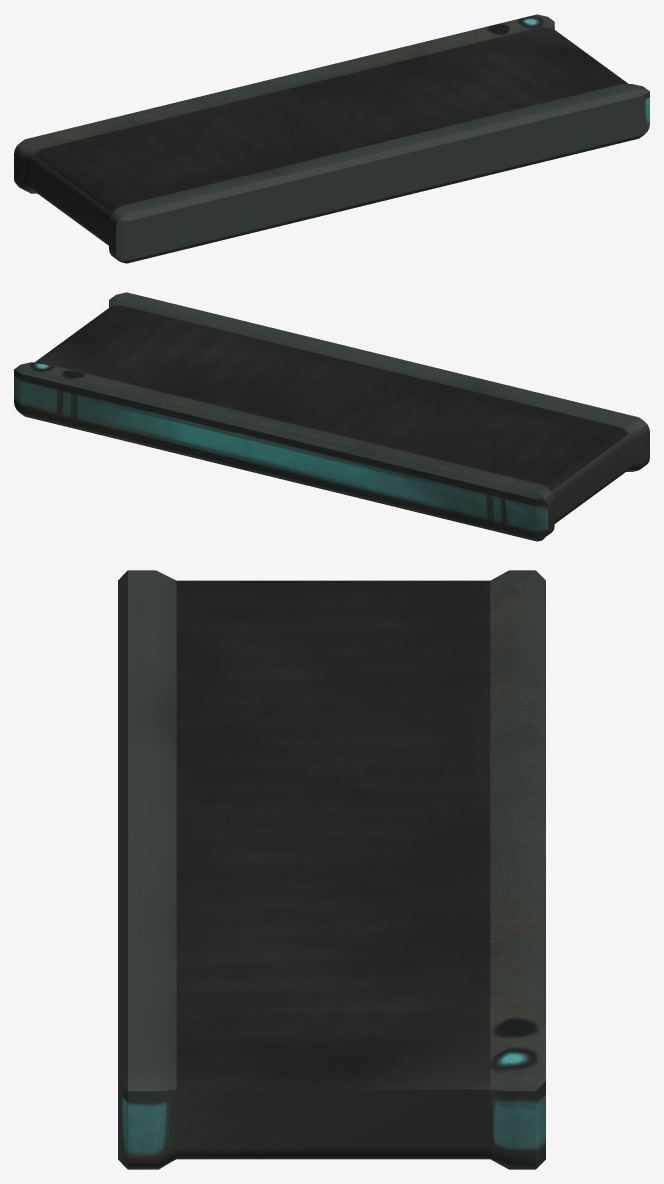
File: rullband.fbx
3 views of the same model, one above another, from view 1: azimuth 30°, elevation 25°; view 2: azimuth 150°, elevation 25°; view 3: azimuth 270°, elevation 25° (orthographic). The views are drawn at different scales.
Parts seen in each view (by area): view 1: pCube1; view 2: pCube1; view 3: pCube1.
Part boxes in pixels (<box>): pCube1: <box>14,14,649,263</box>; pCube1: <box>14,292,649,541</box>; pCube1: <box>118,570,545,1169</box>.
Size of the model in its own units: 1232 by 109 by 428.
Materials: 1 (1 with a texture image).
